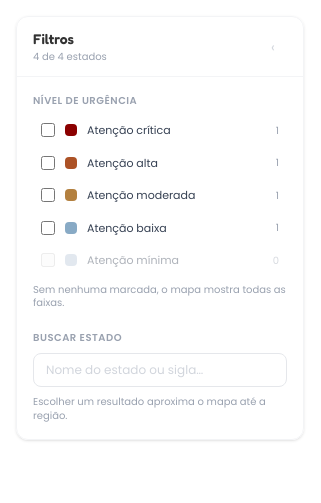
Test: FilterPanel › Limpar desfaz faixas e busca
Click the checkbox labelled "Atenção alta 1": click(48, 163) [41, 156, 55, 170]
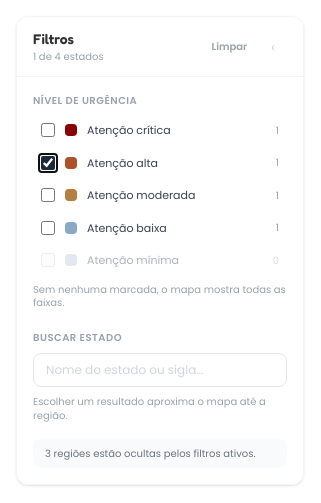
In the field with placeholder "Nome do estado ou sigla…": (160, 370) [33, 353, 287, 387], type "mar"
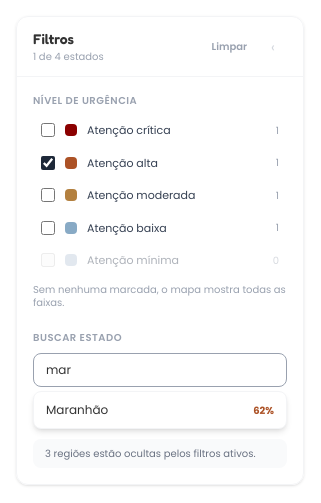
Click the button "Limpar": click(229, 46) [204, 35, 255, 58]
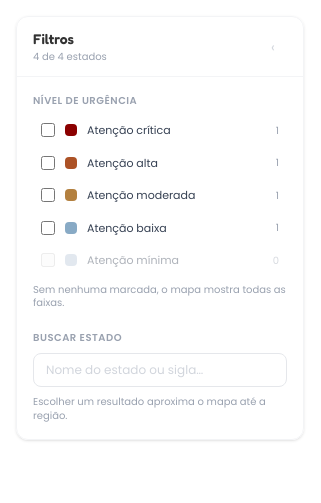
Now the checkbox labelled "Atenção alta 1" is not checked, box [41, 156, 55, 170]
Now the field with placeholder "Nome do estado ou sigla…" is empty, box [33, 353, 287, 387]
Now the text "4 de 4 estados" is shown, box [33, 49, 107, 64]
